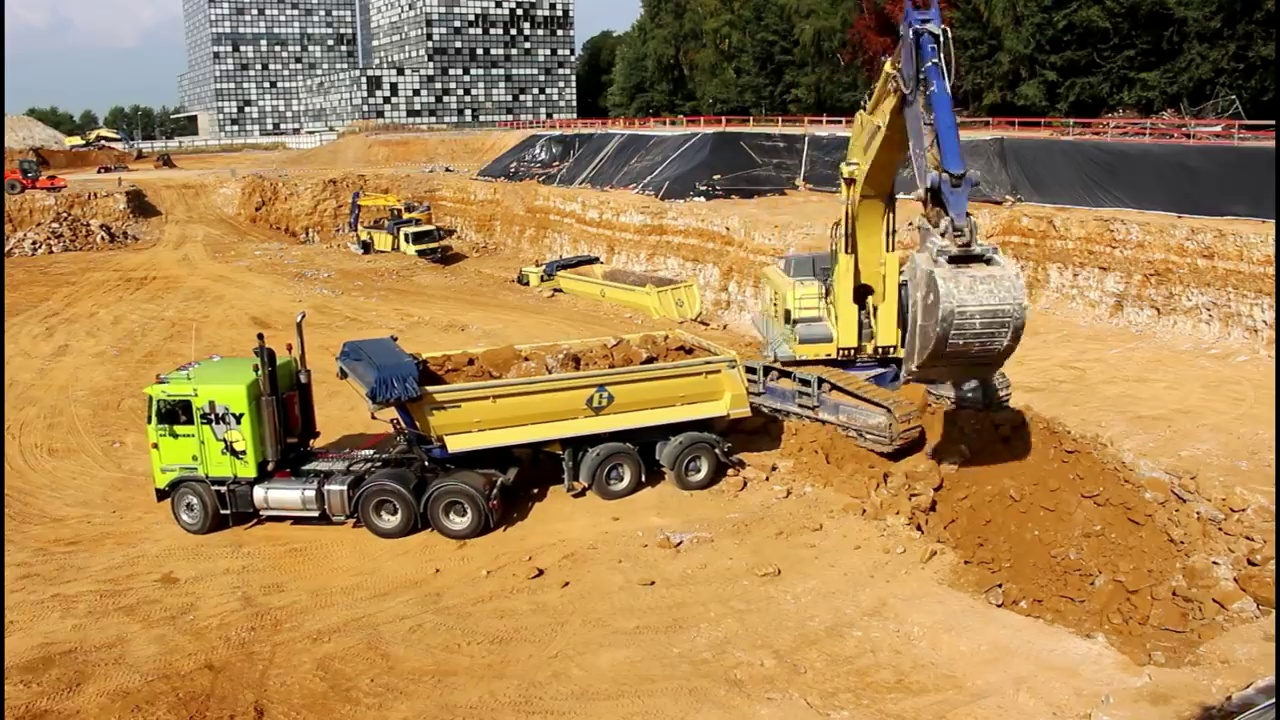compactor: (6, 158, 72, 198)
excavator: (734, 1, 1034, 469), (343, 185, 437, 257), (62, 126, 144, 165)
truck: (137, 305, 757, 544), (515, 250, 706, 352), (362, 219, 457, 272)
